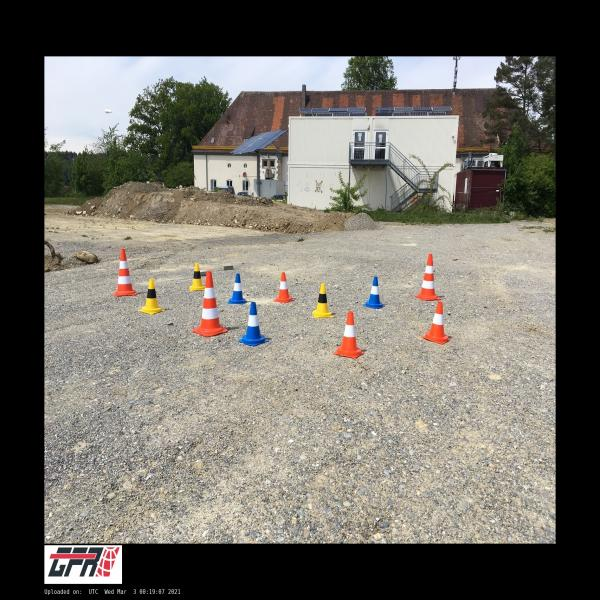blue_cone: (238, 302, 269, 346), (363, 276, 385, 309), (227, 274, 247, 305)
large_orange_cone: (192, 271, 228, 337), (415, 253, 440, 300), (114, 248, 136, 296)
orange_cone: (334, 311, 365, 359), (422, 301, 450, 344), (273, 272, 294, 303)
yellow_cone: (139, 278, 165, 314), (313, 283, 333, 317), (190, 263, 205, 290)
